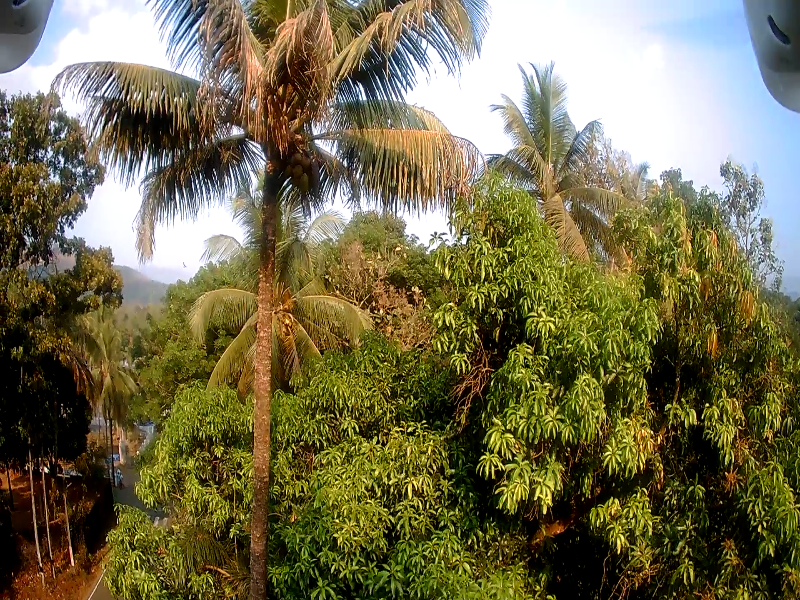coconut: (302, 179, 315, 193), (301, 157, 309, 167), (294, 167, 303, 174), (288, 153, 294, 158)
